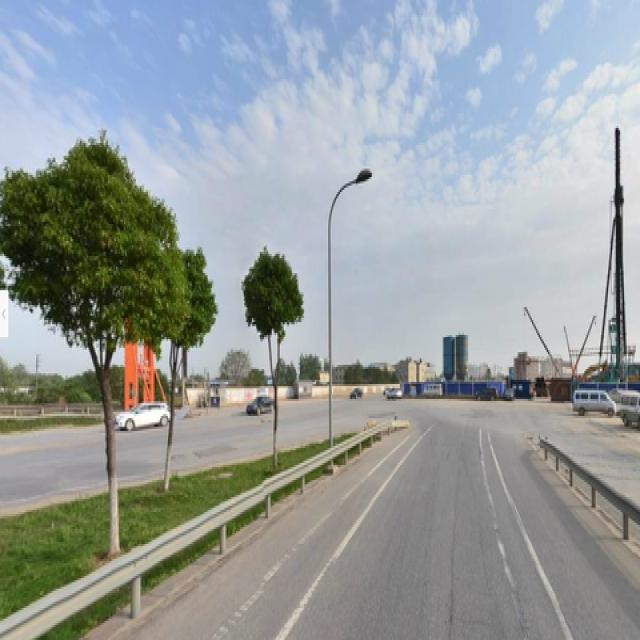cinn: (19, 152, 157, 548), (236, 250, 299, 473)
